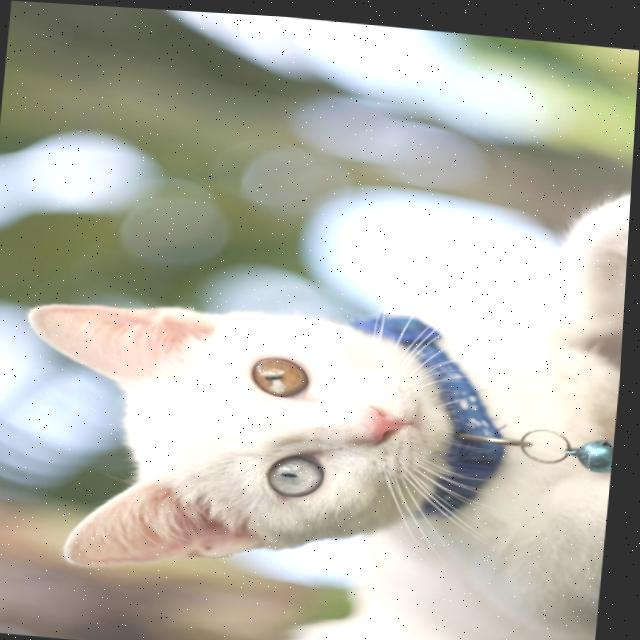Khao Manee: (0, 115, 635, 640)
